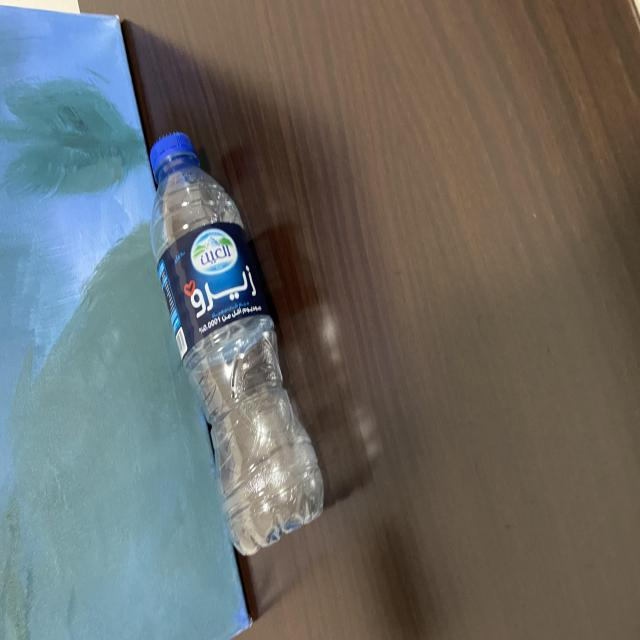bottle: (130, 114, 342, 570)
